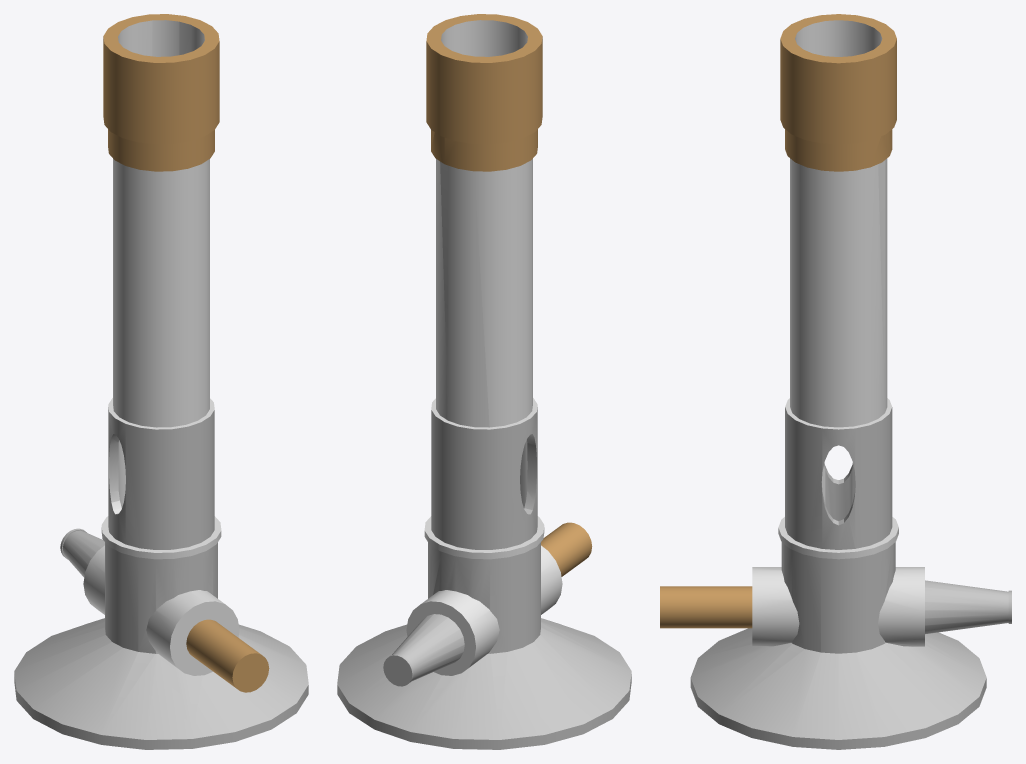
Rendered from BunsenBurner.fbx.
3 renders of one model, left to right at view 1: azimuth 30°, elevation 25°; view 2: azimuth 150°, elevation 25°; view 3: azimuth 270°, elevation 25°, orthographic.
Visible parts, largest first — view 1: pCylinder16, pCylinder14; view 2: pCylinder16, pCylinder14; view 3: pCylinder16, pCylinder14.
Boxes of the visible parts, <box> form: pCylinder16: <box>14,14,308,749</box>; pCylinder14: <box>186,619,269,692</box>; pCylinder16: <box>337,14,631,749</box>; pCylinder14: <box>541,522,592,576</box>; pCylinder16: <box>690,14,1011,749</box>; pCylinder14: <box>660,586,752,628</box>.
Bounding box in the file's own units: 3.08 × 7.44 × 3.66.
